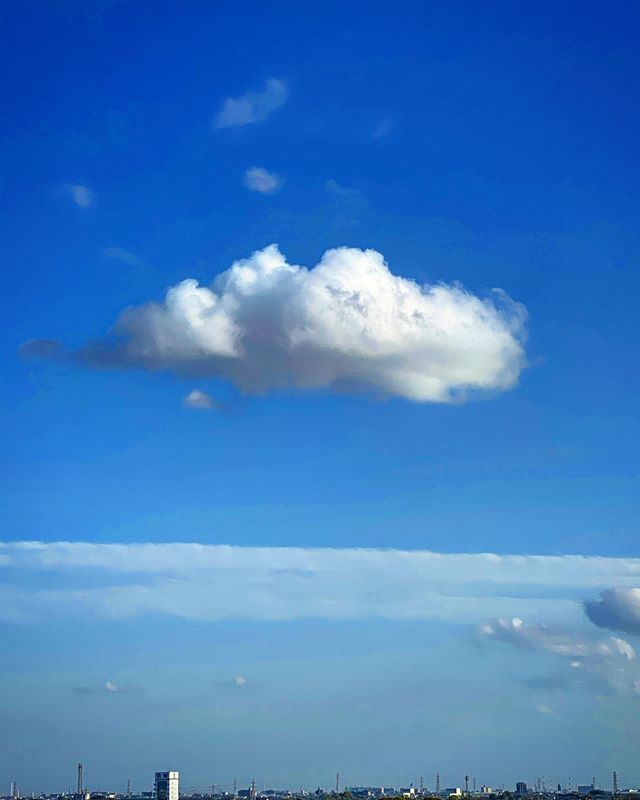sky: (1, 1, 632, 777)
